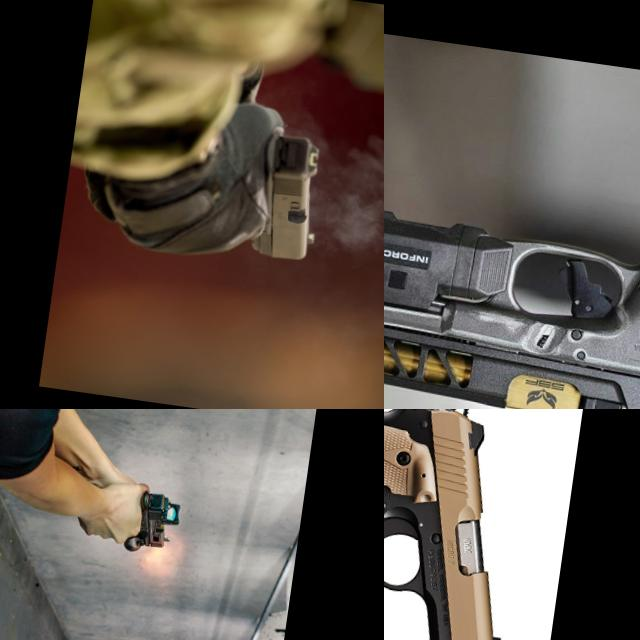handgun: (384, 63, 640, 409), (384, 409, 541, 640), (219, 122, 332, 268), (73, 478, 185, 558)
